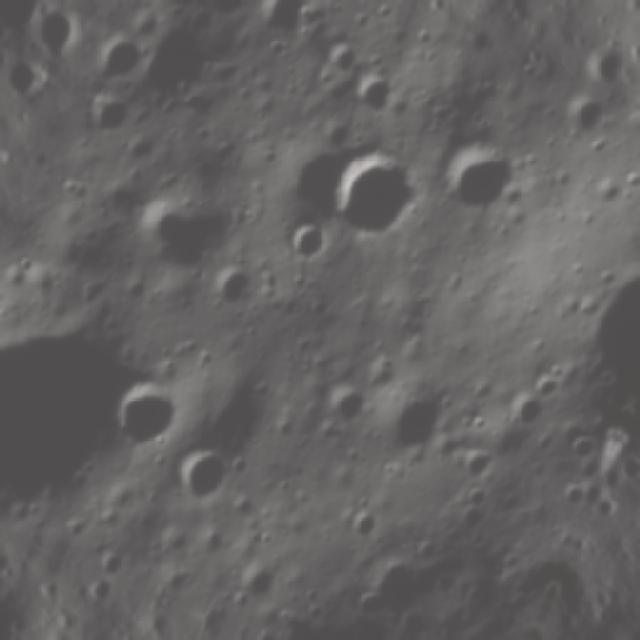crater: (0, 290, 143, 536), (126, 176, 240, 286), (314, 134, 424, 246), (566, 267, 640, 424), (428, 132, 520, 232), (347, 548, 435, 640), (113, 368, 187, 457), (382, 384, 456, 468), (164, 432, 236, 514), (86, 26, 156, 91), (74, 82, 138, 146), (316, 372, 375, 430), (344, 63, 405, 117), (279, 218, 336, 272), (229, 555, 282, 613), (254, 0, 308, 54), (559, 87, 613, 141), (208, 257, 258, 315), (447, 494, 495, 541), (502, 388, 549, 434), (339, 502, 387, 546), (454, 441, 498, 488), (359, 348, 406, 390), (538, 157, 582, 200), (323, 36, 365, 81), (586, 172, 628, 211), (405, 532, 447, 568), (88, 546, 130, 582), (529, 370, 566, 402), (568, 431, 600, 467), (55, 173, 90, 205), (7, 252, 38, 286), (237, 0, 312, 14), (406, 23, 440, 52), (634, 208, 640, 287)
